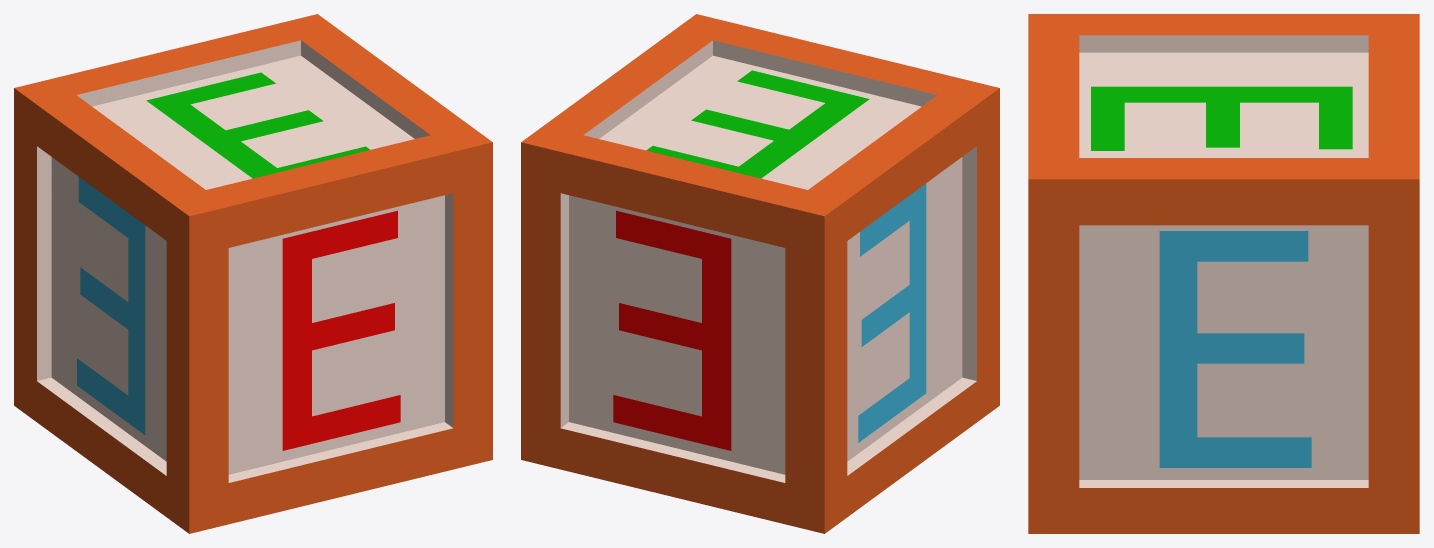
File: Prop_KidsCube_E.fbx
3 views of the same model, side by side, from view 1: azimuth 30°, elevation 25°; view 2: azimuth 150°, elevation 25°; view 3: azimuth 270°, elevation 25° (orthographic). The views are drawn at different scales.
Visible parts, largest first — view 1: Prop_KidsCube_E; view 2: Prop_KidsCube_E; view 3: Prop_KidsCube_E.
Part boxes in pixels (x1=…): Prop_KidsCube_E: x1=14, y1=14, x2=492, y2=533; Prop_KidsCube_E: x1=521, y1=14, x2=999, y2=533; Prop_KidsCube_E: x1=1028, y1=14, x2=1419, y2=533.
Size of the model in its own units: 20.93 by 20.93 by 20.93.
